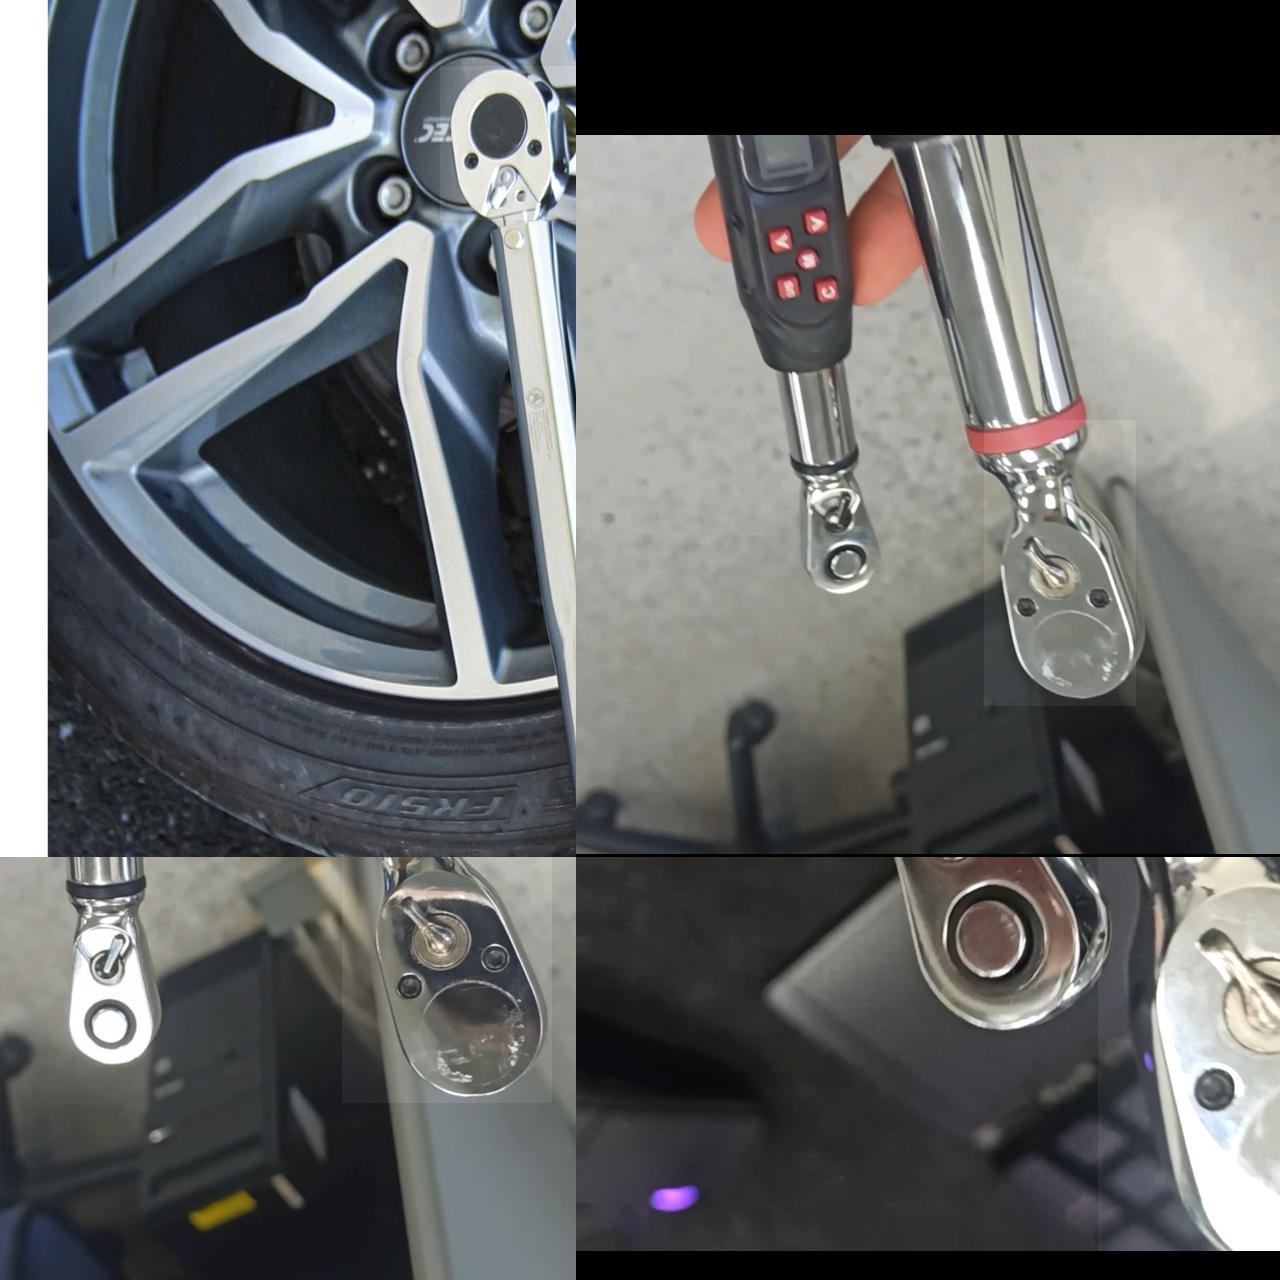Tool: (1098, 857, 1280, 1251), (342, 857, 552, 1102), (845, 857, 1114, 1042), (983, 418, 1136, 704), (440, 64, 576, 219), (68, 894, 164, 1069), (794, 469, 885, 597)
